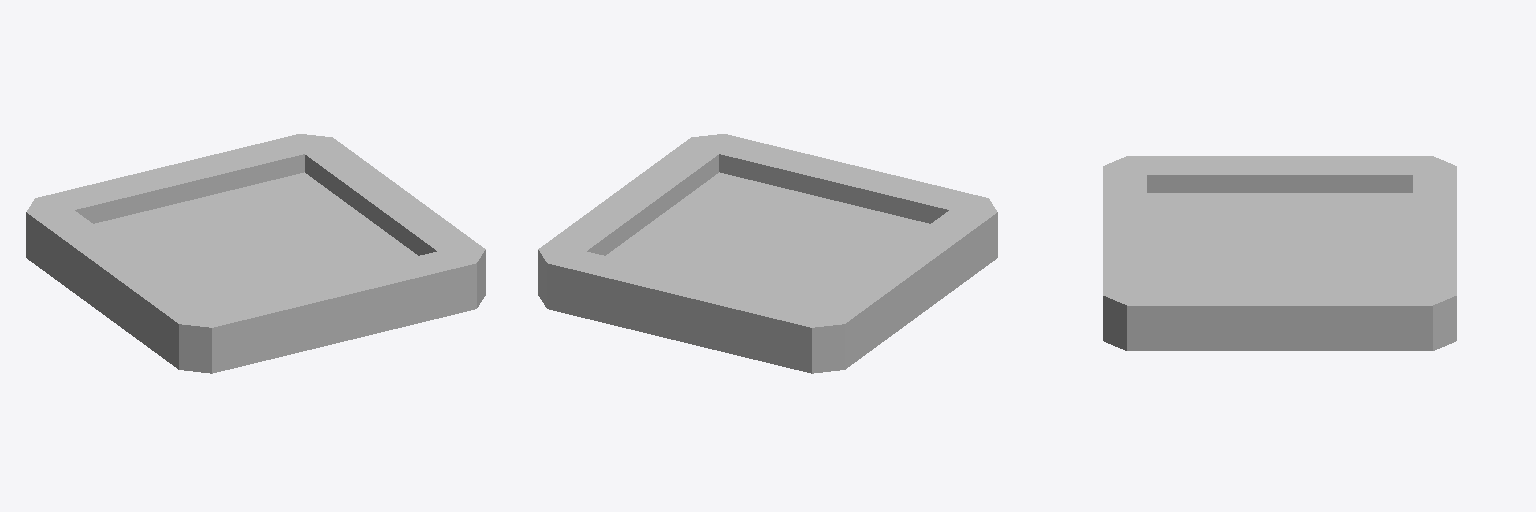
The model's file is tresh (Голова Башни top).obj.
The picture shows the model from 3 angles: view 1: azimuth 30°, elevation 25°; view 2: azimuth 150°, elevation 25°; view 3: azimuth 270°, elevation 25°; orthographic projection.
Parts seen in each view (by area): view 1: tresh (Голова Башни top); view 2: tresh (Голова Башни top); view 3: tresh (Голова Башни top).
Part boxes in pixels (left/top/right/bottom): tresh (Голова Башни top): left=26, top=134, right=485, bottom=373; tresh (Голова Башни top): left=538, top=134, right=997, bottom=373; tresh (Голова Башни top): left=1103, top=156, right=1456, bottom=350.
Size of the model in its own units: 3.5 by 0.5502 by 3.5.